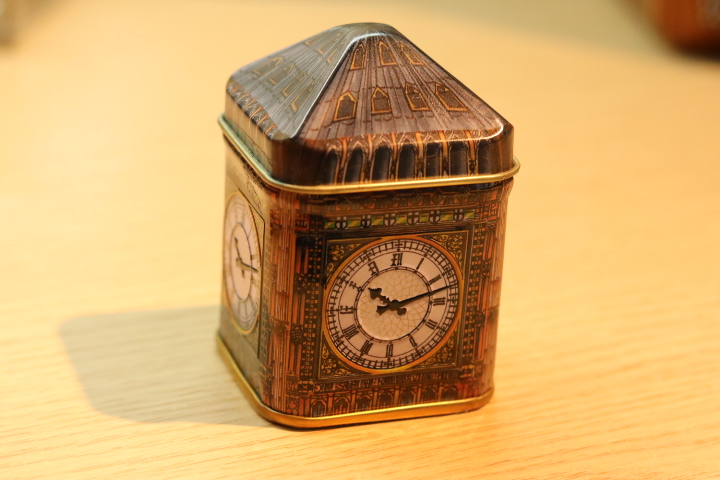Big Ben: (195, 18, 541, 448)
